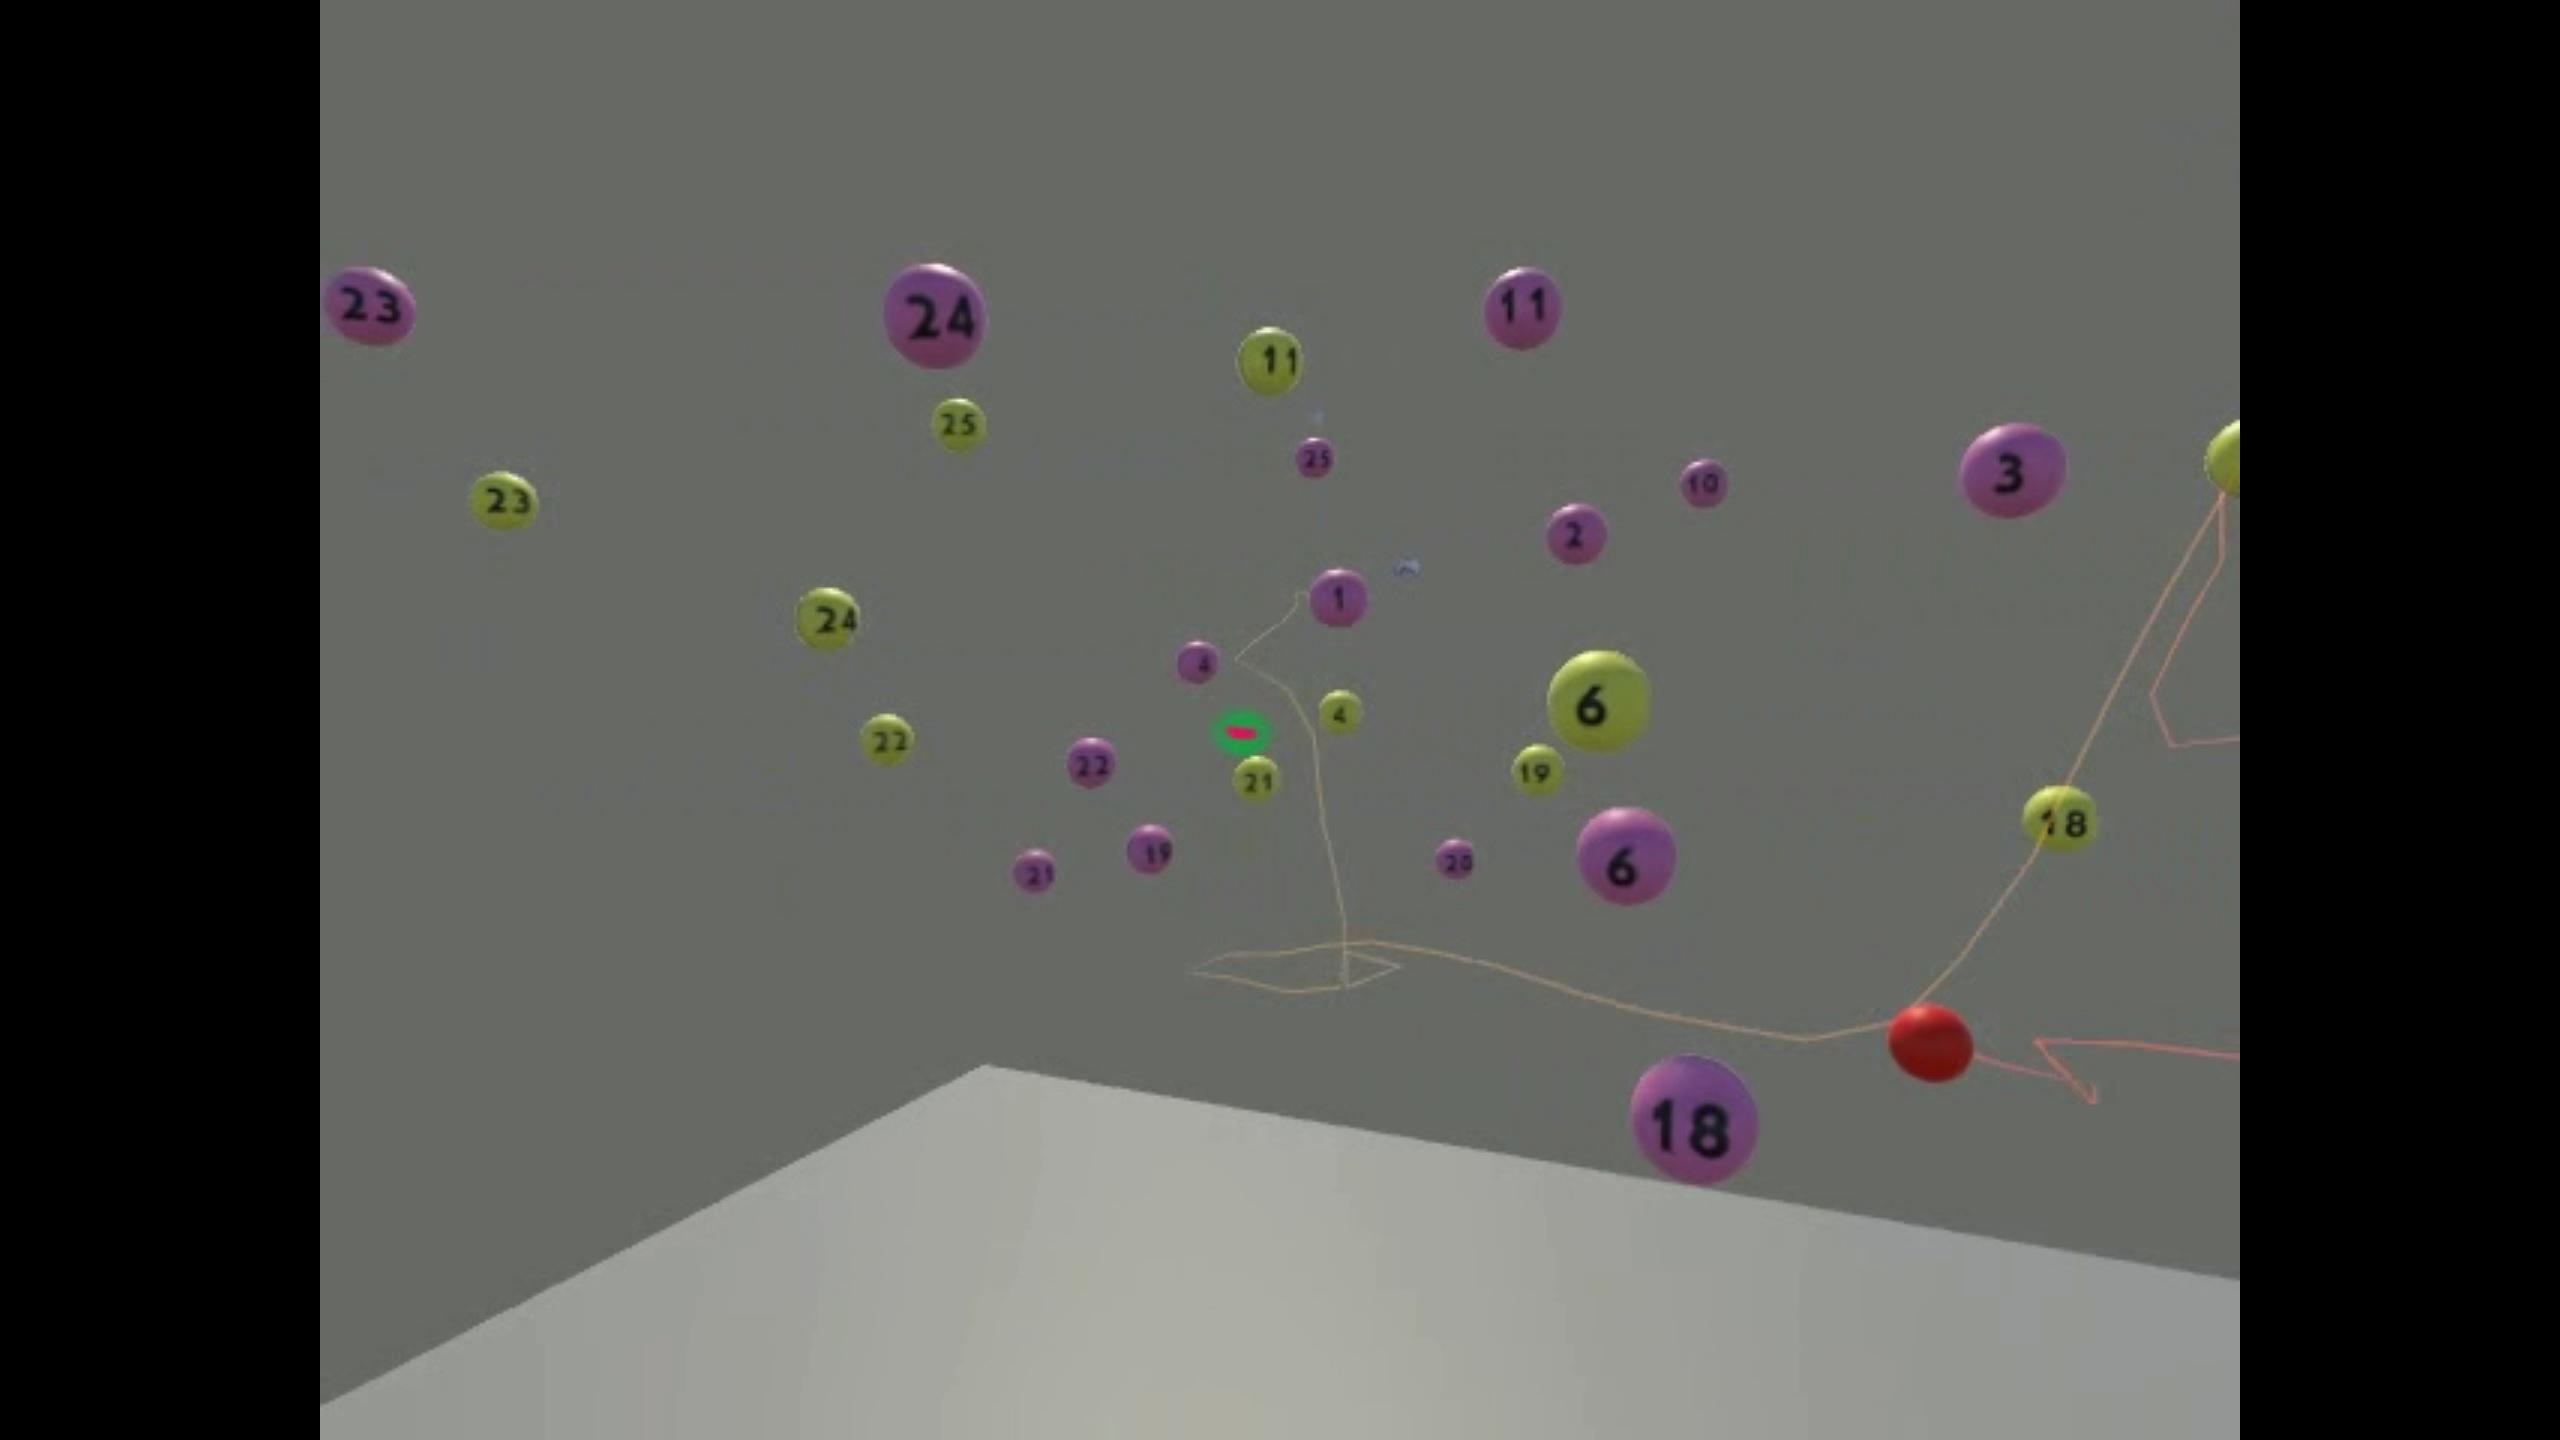ball_01_pink: (1310, 566, 1370, 626)
ball_02_pink: (1545, 505, 1607, 564)
ball_03_pink: (1960, 422, 2062, 515)
ball_04_pink: (1176, 642, 1217, 680)
ball_04_yellow: (1319, 691, 1366, 735)
ball_06_pink: (1579, 807, 1676, 907)
ball_06_yellow: (1549, 651, 1651, 753)
ball_10_pink: (1679, 461, 1728, 508)
ball_11_pink: (1486, 267, 1561, 350)
ball_11_yellow: (1234, 327, 1303, 389)
ball_13_pink: (324, 264, 413, 345)
ball_18_pink: (1630, 1057, 1756, 1185)
ball_18_yellow: (2025, 786, 2099, 851)
ball_19_pink: (1125, 825, 1176, 874)
ball_19_yellow: (1512, 745, 1563, 796)
ball_20_pink: (1436, 837, 1475, 879)
ball_21_pink: (1009, 851, 1055, 897)
ball_21_yellow: (1233, 758, 1282, 804)
ball_22_pink: (1067, 740, 1113, 788)
ball_22_yellow: (858, 716, 914, 765)
ball_23_yellow: (469, 471, 536, 526)
ball_24_pink: (884, 264, 983, 367)
ball_24_yellow: (796, 587, 860, 647)
ball_25_pink: (1294, 436, 1335, 478)
ball_25_yellow: (932, 399, 983, 448)
ball_unknown: (2205, 417, 2242, 498)
user_cursor: (1888, 1006, 1975, 1083)
